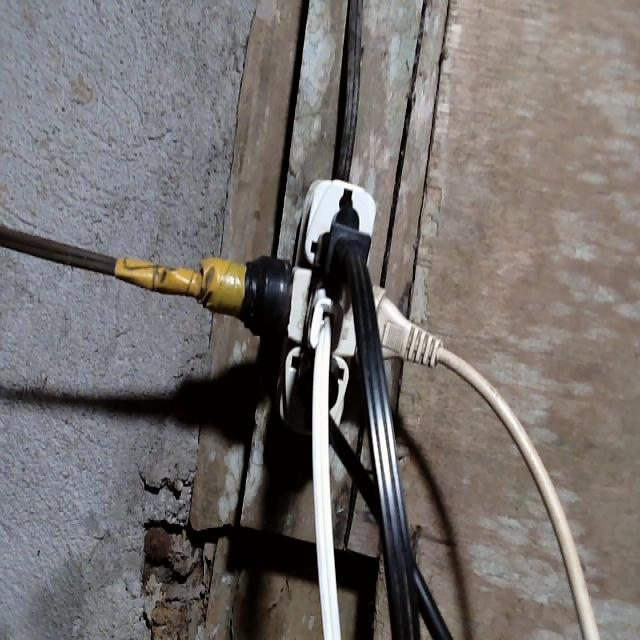-: (159, 172, 475, 441)
